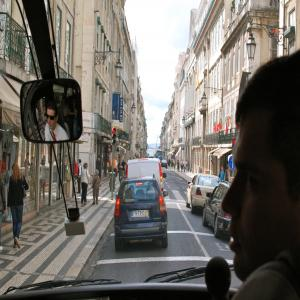Vehicle-registration-plate: (132, 210, 149, 218)
